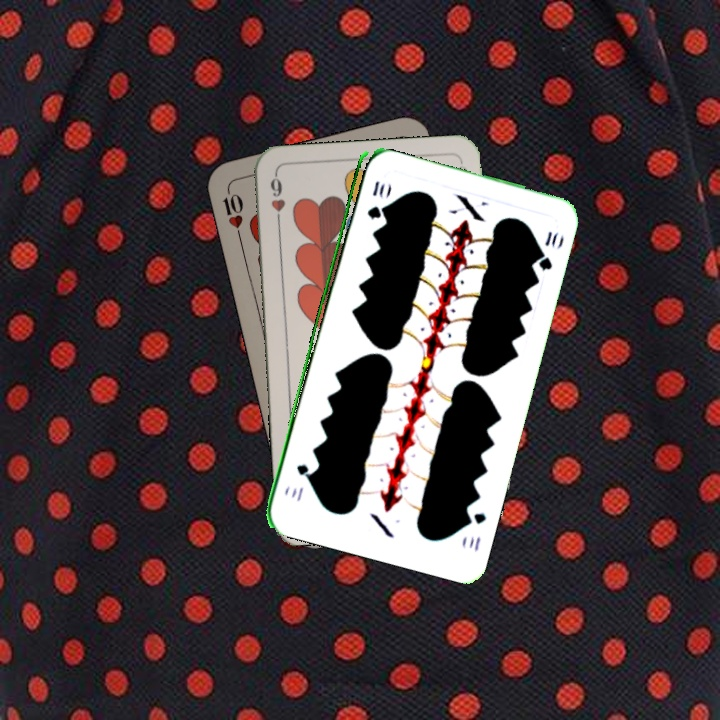G10: (460, 507, 489, 554), (363, 177, 388, 222)
H10: (219, 184, 246, 242)
H9: (266, 170, 288, 230)
